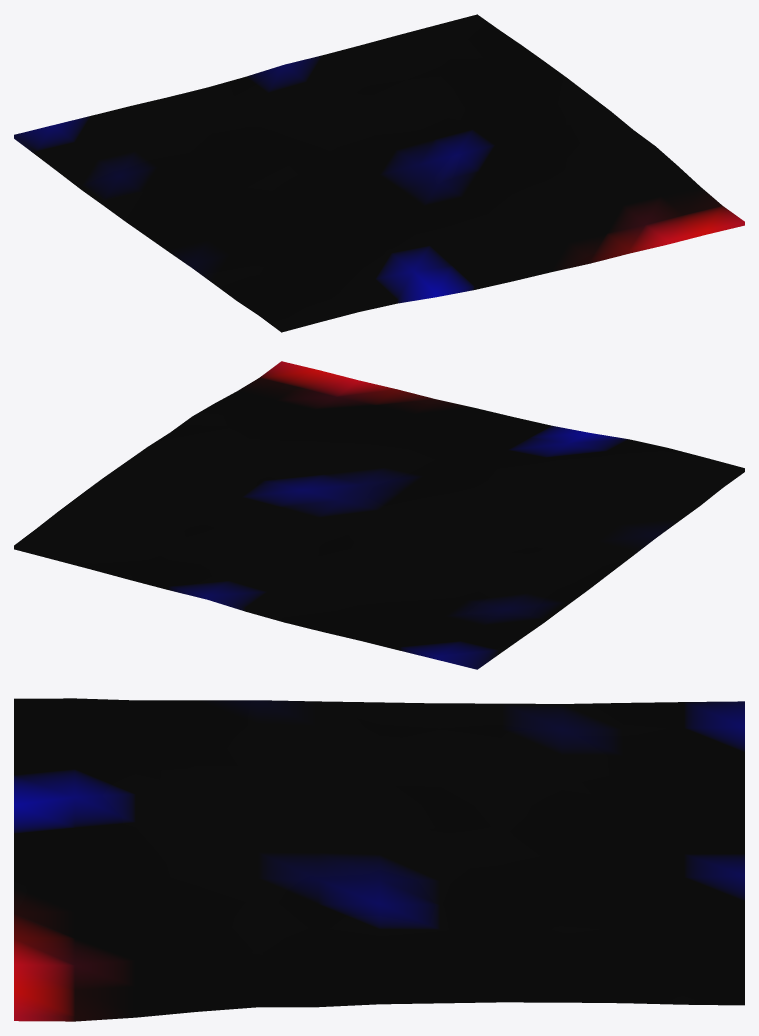
Rendered from coast_21_7.glb.
The picture shows the model from 3 angles, top to bottom: view 1: azimuth 30°, elevation 25°; view 2: azimuth 150°, elevation 25°; view 3: azimuth 270°, elevation 25°; orthographic projection. The views are drawn at different scales.
Parts seen in each view (by area): view 1: terrain; view 2: terrain; view 3: terrain.
Part boxes in pixels (x1,y1,x2,y2): terrain: [14, 14, 744, 332]; terrain: [14, 361, 744, 669]; terrain: [14, 698, 744, 1021].
Size of the model in its own units: 192 by 7.07 by 192.
